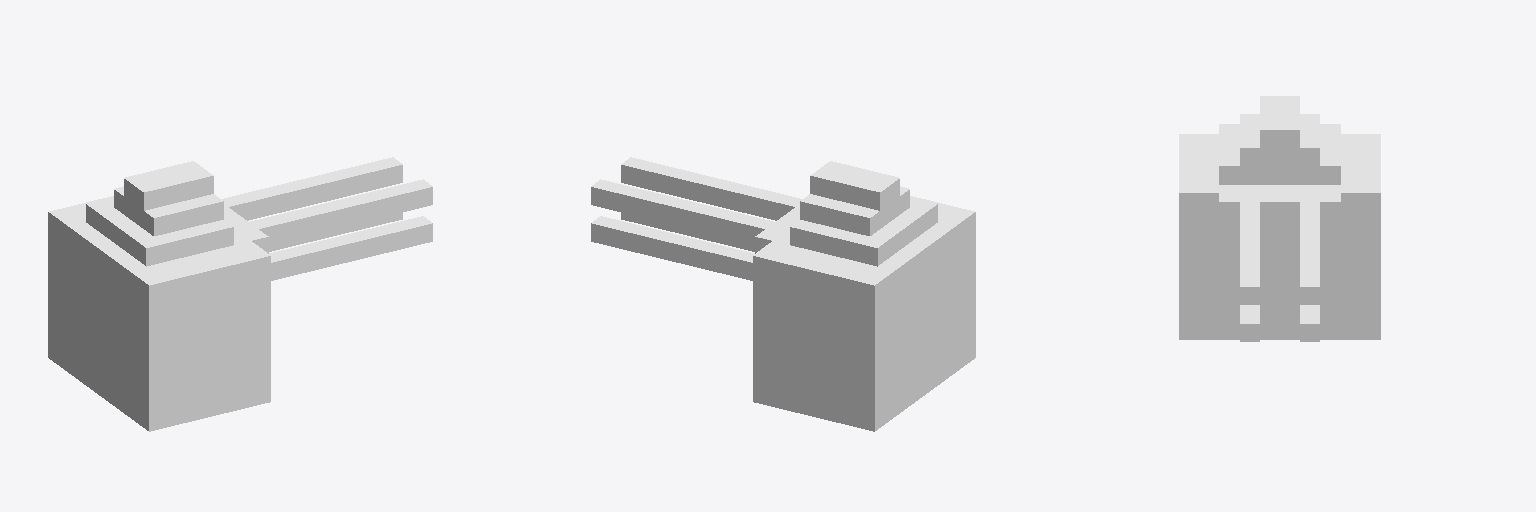
File: hou.obj
3 renders of one model, left to right at view 1: azimuth 30°, elevation 25°; view 2: azimuth 150°, elevation 25°; view 3: azimuth 270°, elevation 25°, orthographic.
Parts seen in each view (by area): view 1: hou; view 2: hou; view 3: hou.
Boxes of the visible parts, <box> form: hou: <box>48,157,432,431</box>; hou: <box>591,157,975,431</box>; hou: <box>1179,96,1380,341</box>.
Bounding box in the file's own units: 18 × 11 × 10.